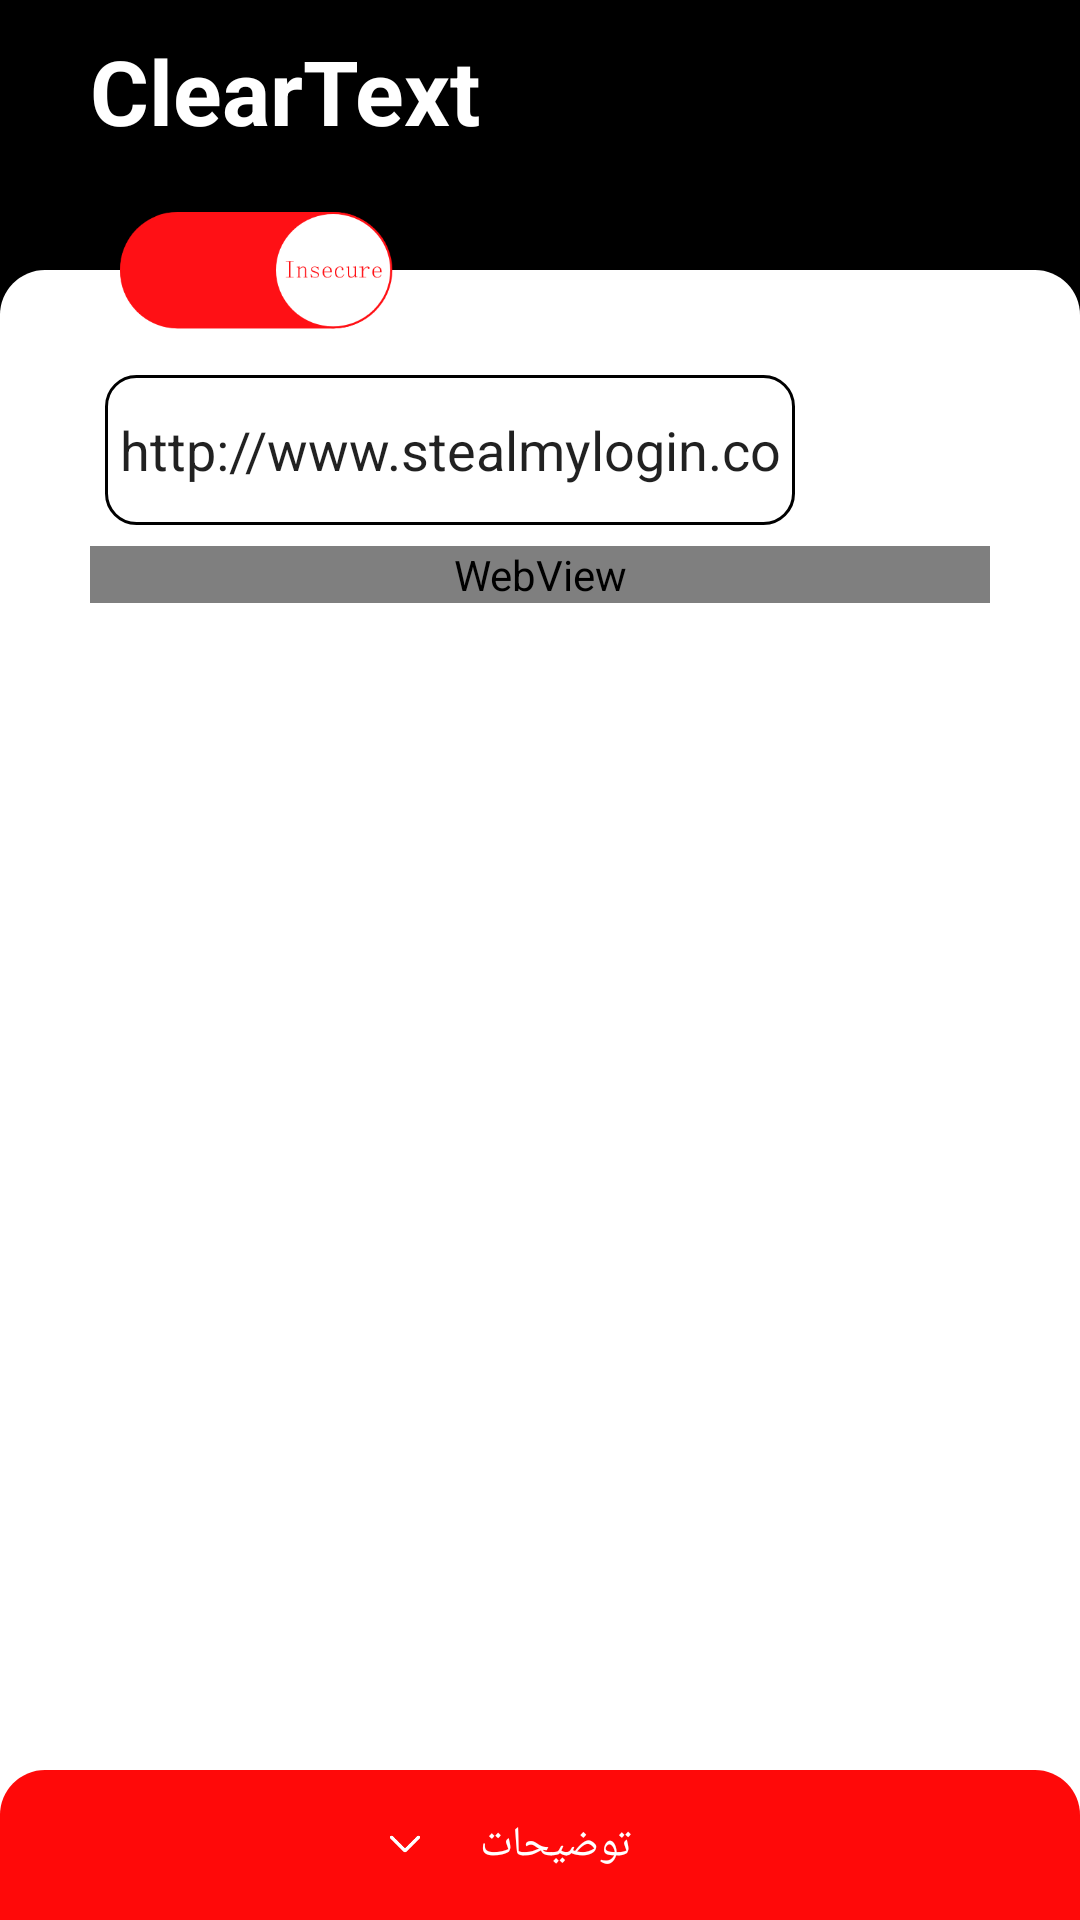

Point at icon controls on the screen. Image size 1080px×1920px, points as (x,y).
toggle switch: (256,270)
